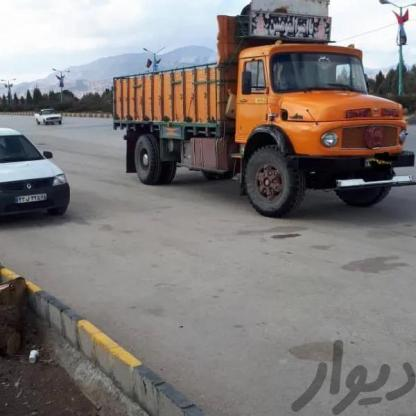Car: (0, 126, 67, 223), (38, 110, 69, 131)
Truck: (102, 0, 416, 232)
